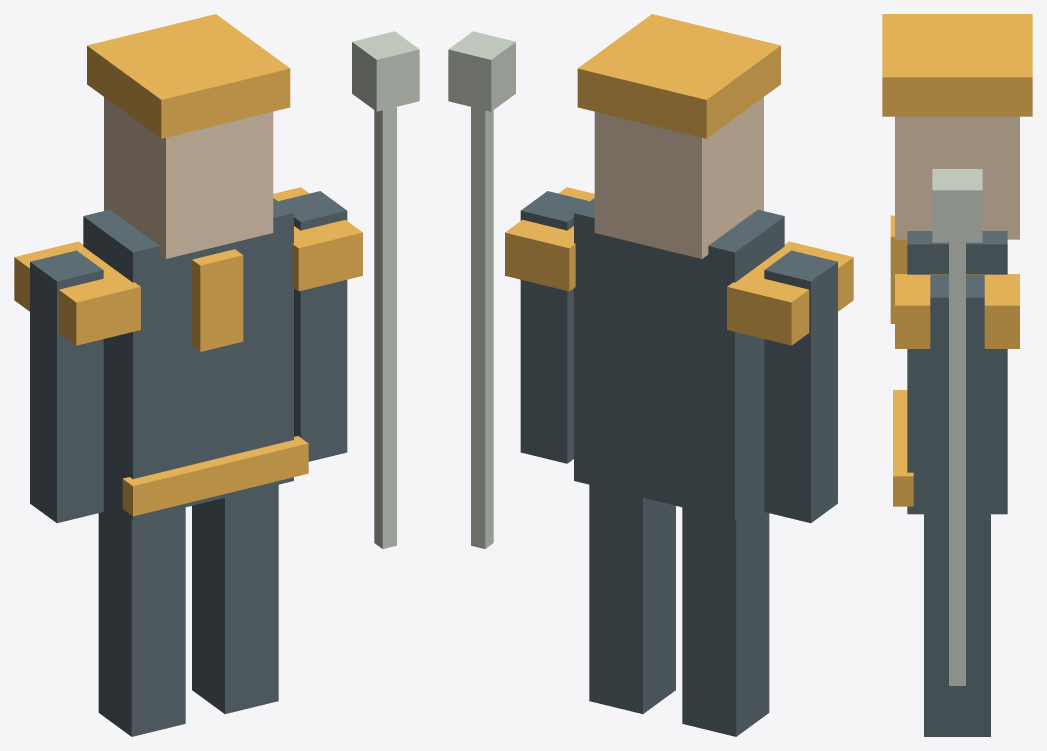
File: 06_bryn_signalborn_engineer_from_echo.glb
3 renders of one model, left to right at view 1: azimuth 30°, elevation 25°; view 2: azimuth 150°, elevation 25°; view 3: azimuth 270°, elevation 25°, orthographic.
Visible parts, largest first — view 1: Bryn Signalborn, Engineer from Echo; view 2: Bryn Signalborn, Engineer from Echo; view 3: Bryn Signalborn, Engineer from Echo.
Part boxes in pixels (box(x1,y1,x2,y2)): Bryn Signalborn, Engineer from Echo: box(14, 14, 419, 736); Bryn Signalborn, Engineer from Echo: box(448, 14, 853, 736); Bryn Signalborn, Engineer from Echo: box(882, 14, 1032, 736).
Bounding box in the file's own units: 0.9662 × 1.65 × 0.3427.
